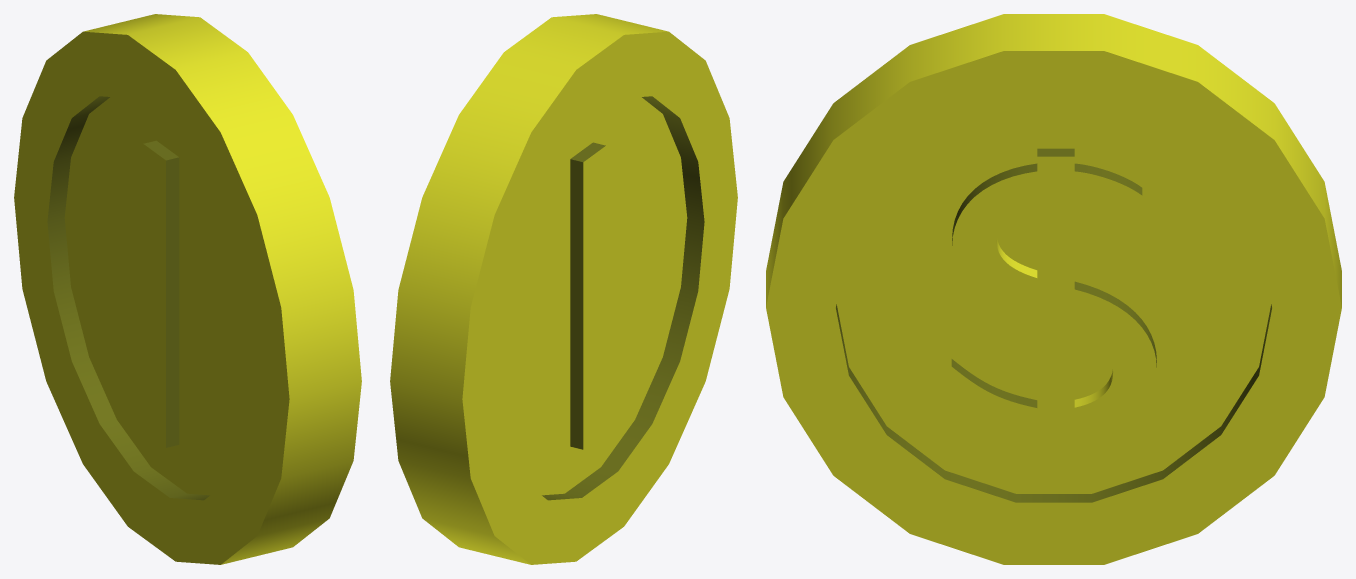
The model's file is coin.fbx.
The picture shows the model from 3 angles, left to right: view 1: azimuth 30°, elevation 25°; view 2: azimuth 150°, elevation 25°; view 3: azimuth 270°, elevation 25°; orthographic projection. The views are drawn at different scales.
Visible parts, largest first — view 1: coin; view 2: coin; view 3: coin.
Part boxes in pixels (x1,y1,x2,y2): coin: (14, 14, 361, 564); coin: (390, 14, 737, 564); coin: (766, 14, 1341, 564).
Bounding box in the file's own units: 30.32 × 197 × 200.
